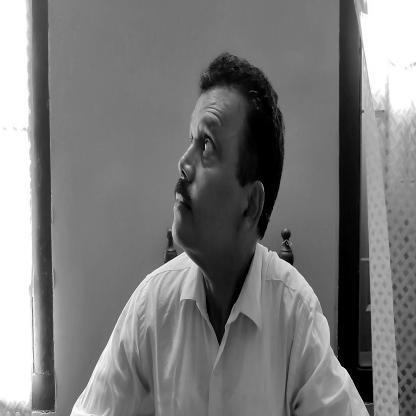Distracted: (164, 53, 288, 292)
